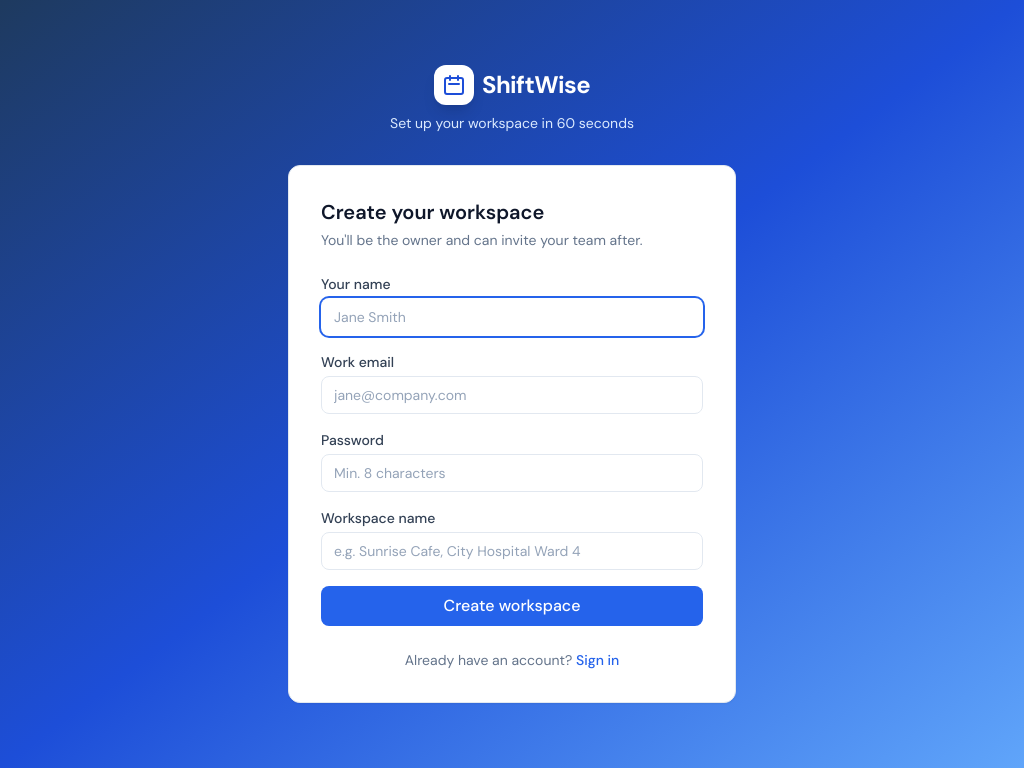
Test: RegisterPage › shows loading state while submitting
The width and height of the screenshot is (1024, 768).
Type "New User" into the field with placeholder "Jane Smith" at (512, 317), box [321,298,703,336]
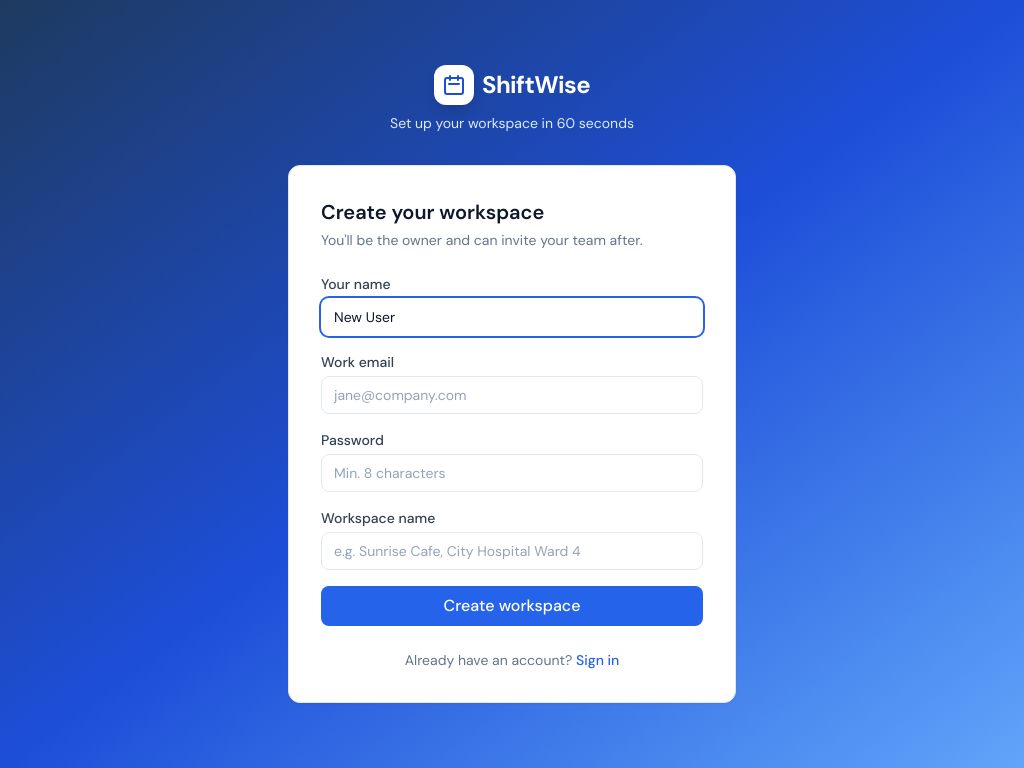
Type "new.user@demo.com" into the field with placeholder "jane@company.com" at (512, 395), box [321,376,703,414]
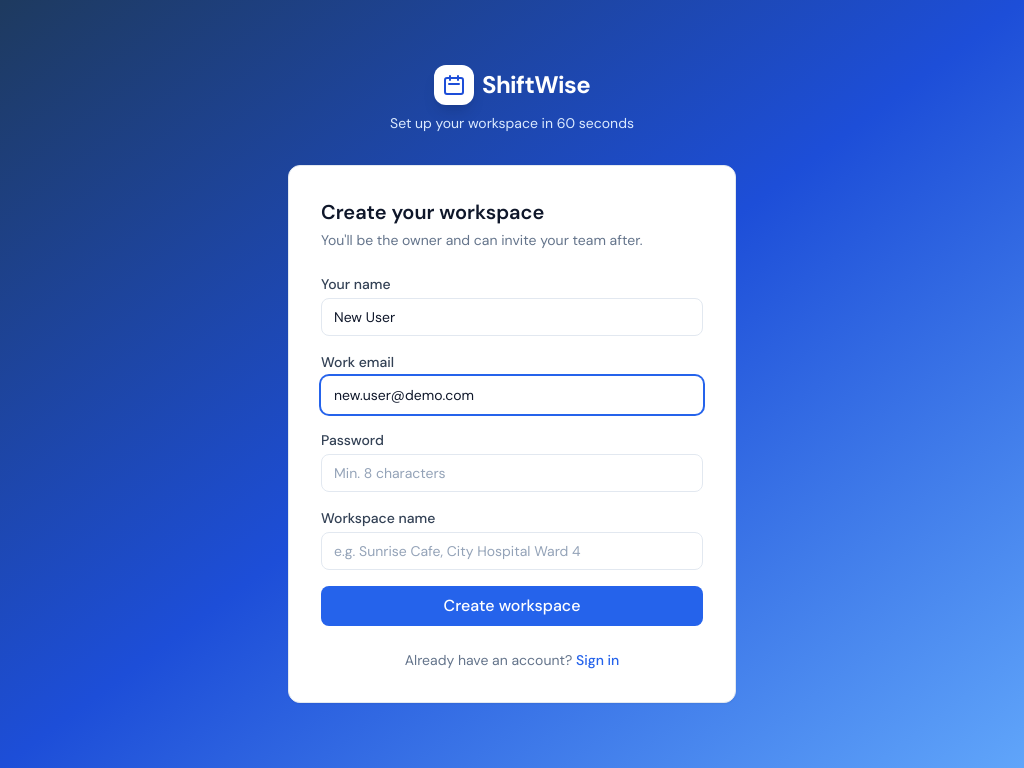
Type "password123" into the password field with placeholder "Min. 8 characters" at (512, 473), box [321,454,703,492]
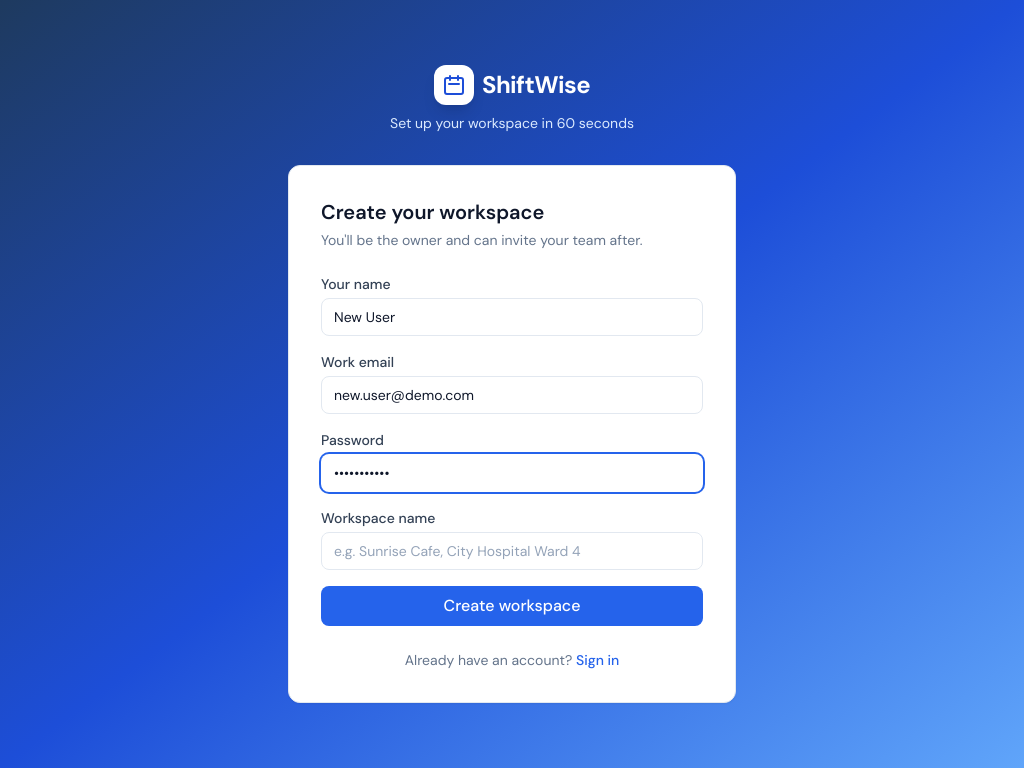
Type "New Workspace" into the field with placeholder "e.g. Sunrise Cafe, City Hospital Ward 4" at (512, 551), box [321,532,703,570]
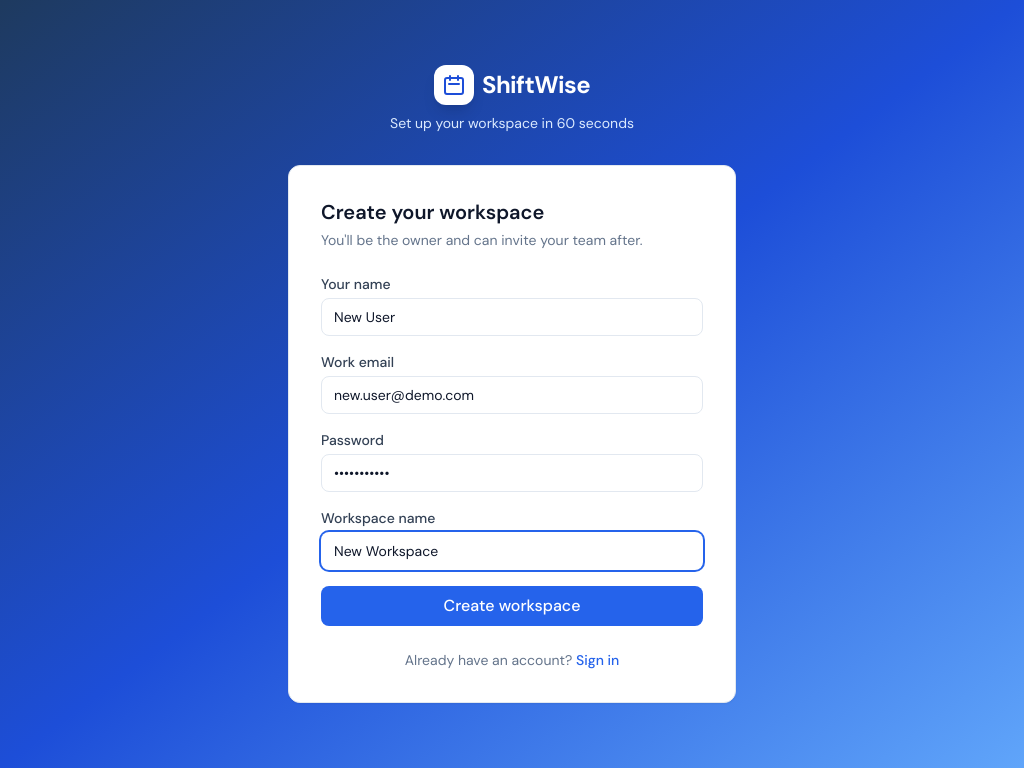
Click the button "Create workspace" at (512, 606), box [321,586,703,626]
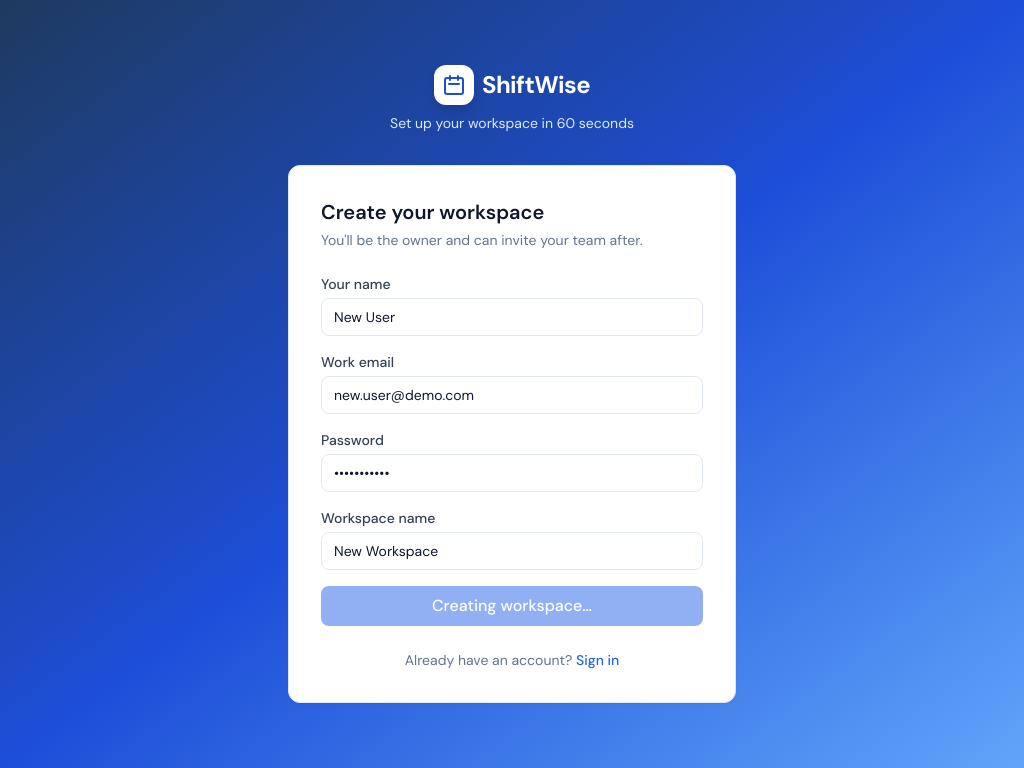
Expected: the button "Creating workspace…" is disabled, [321,586,703,626]
